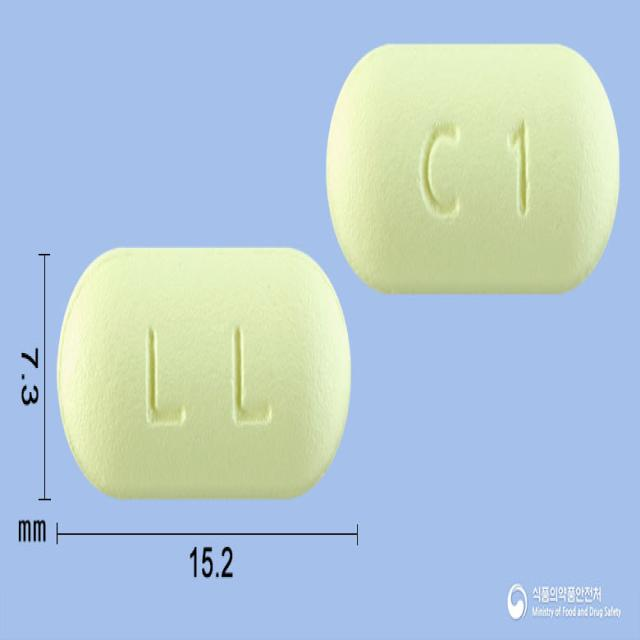Clratomin - 500mg: (56, 242, 352, 498), (325, 40, 621, 294)
